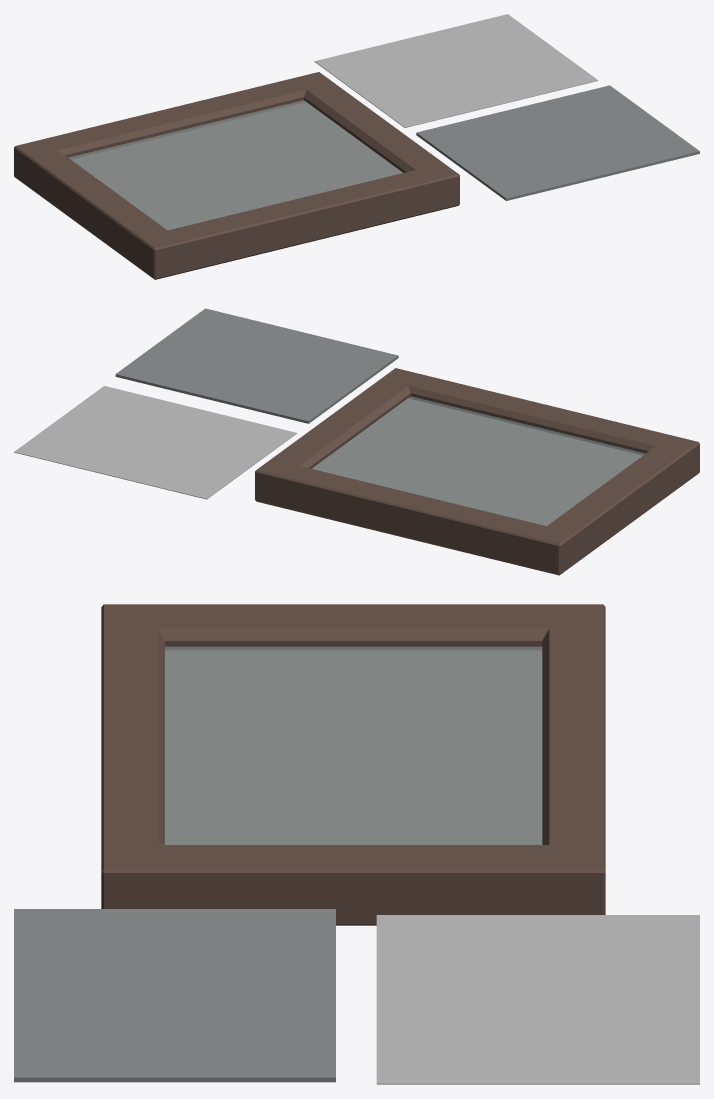
File: demo_step5_bakedanim.glb
3 renders of one model, top to bottom at view 1: azimuth 30°, elevation 25°; view 2: azimuth 150°, elevation 25°; view 3: azimuth 270°, elevation 25°, orthographic. The views are drawn at different scales.
Visible parts, largest first — view 1: contactprintingeasel.002, contacteasel_glass, contacteasel_back, glassplate.006, paper.001; view 2: contactprintingeasel.002, contacteasel_glass, contacteasel_back, glassplate.006, paper.001; view 3: contactprintingeasel.002, contacteasel_glass, contacteasel_back, glassplate.006, paper.001.
Part boxes in pixels (x1=…): contactprintingeasel.002: x1=14, y1=72, x2=459, y2=279; contacteasel_glass: x1=69, y1=100, x2=402, y2=229; contacteasel_back: x1=71, y1=102, x2=402, y2=230; glassplate.006: x1=416, y1=85, x2=699, y2=200; paper.001: x1=314, y1=14, x2=598, y2=127; contactprintingeasel.002: x1=255, y1=368, x2=699, y2=575; contacteasel_glass: x1=312, y1=396, x2=644, y2=525; contacteasel_back: x1=312, y1=398, x2=642, y2=525; glassplate.006: x1=115, y1=308, x2=398, y2=423; paper.001: x1=14, y1=386, x2=297, y2=499; contactprintingeasel.002: x1=101, y1=604, x2=605, y2=925; contacteasel_glass: x1=165, y1=647, x2=541, y2=844; contacteasel_back: x1=165, y1=650, x2=542, y2=844; glassplate.006: x1=14, y1=909, x2=335, y2=1082; paper.001: x1=376, y1=915, x2=699, y2=1084.
Bounding box in the file's own units: 19.45 × 1.13 × 12.41.
